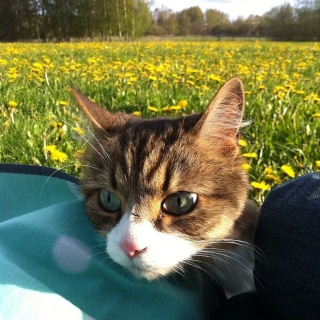Cat: (38, 75, 265, 290)
